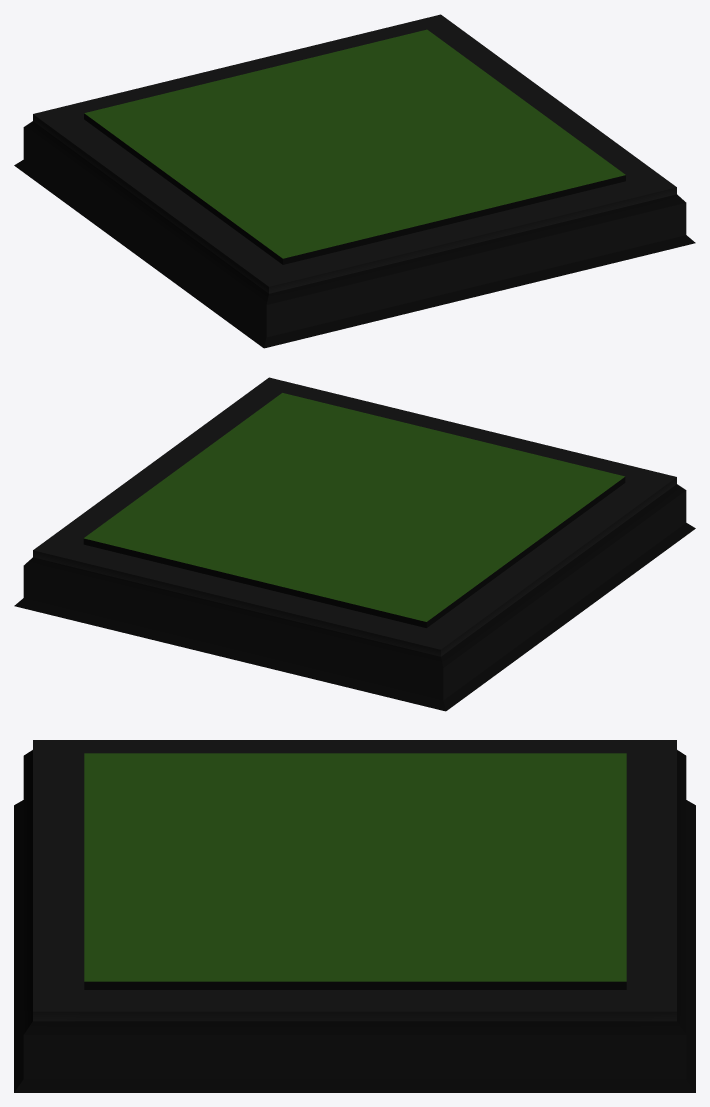
File: Plaque (1).FBX
3 views of the same model, one above another, from view 1: azimuth 30°, elevation 25°; view 2: azimuth 150°, elevation 25°; view 3: azimuth 270°, elevation 25° (orthographic). The views are drawn at different scales.
Visible parts, largest first — view 1: Plauqe; view 2: Plauqe; view 3: Plauqe.
Boxes of the visible parts, left/top/right/bottom form: Plauqe: left=14, top=14, right=695, bottom=348; Plauqe: left=14, top=377, right=695, bottom=711; Plauqe: left=14, top=740, right=695, bottom=1092.
Bounding box in the file's own units: 3.23 × 0.428 × 3.24.
